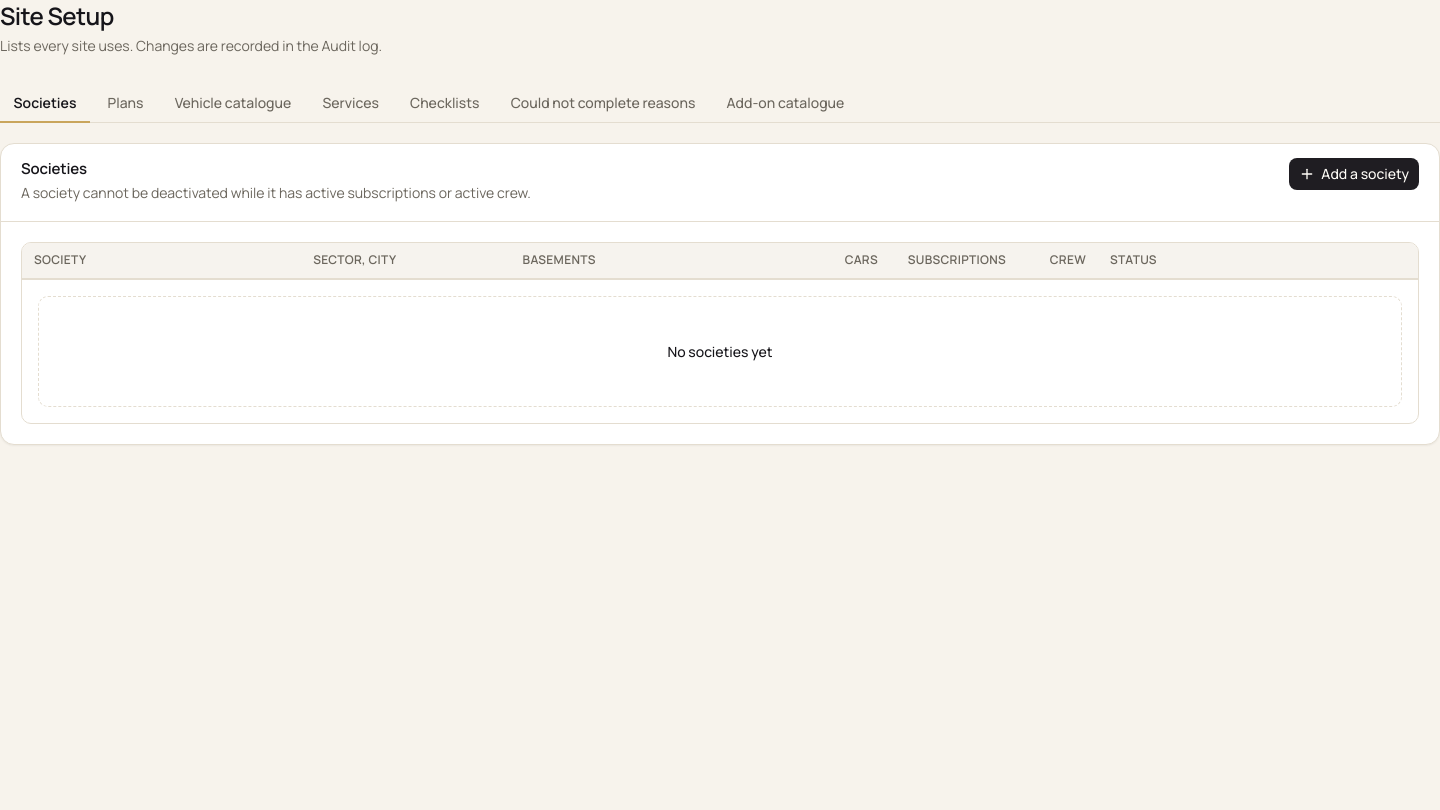
reference data › creates a society and shows a field error from the API
This screenshot has width=1440, height=810.
Click the button "Add a society" at (1354, 174), box [1289, 158, 1419, 190]
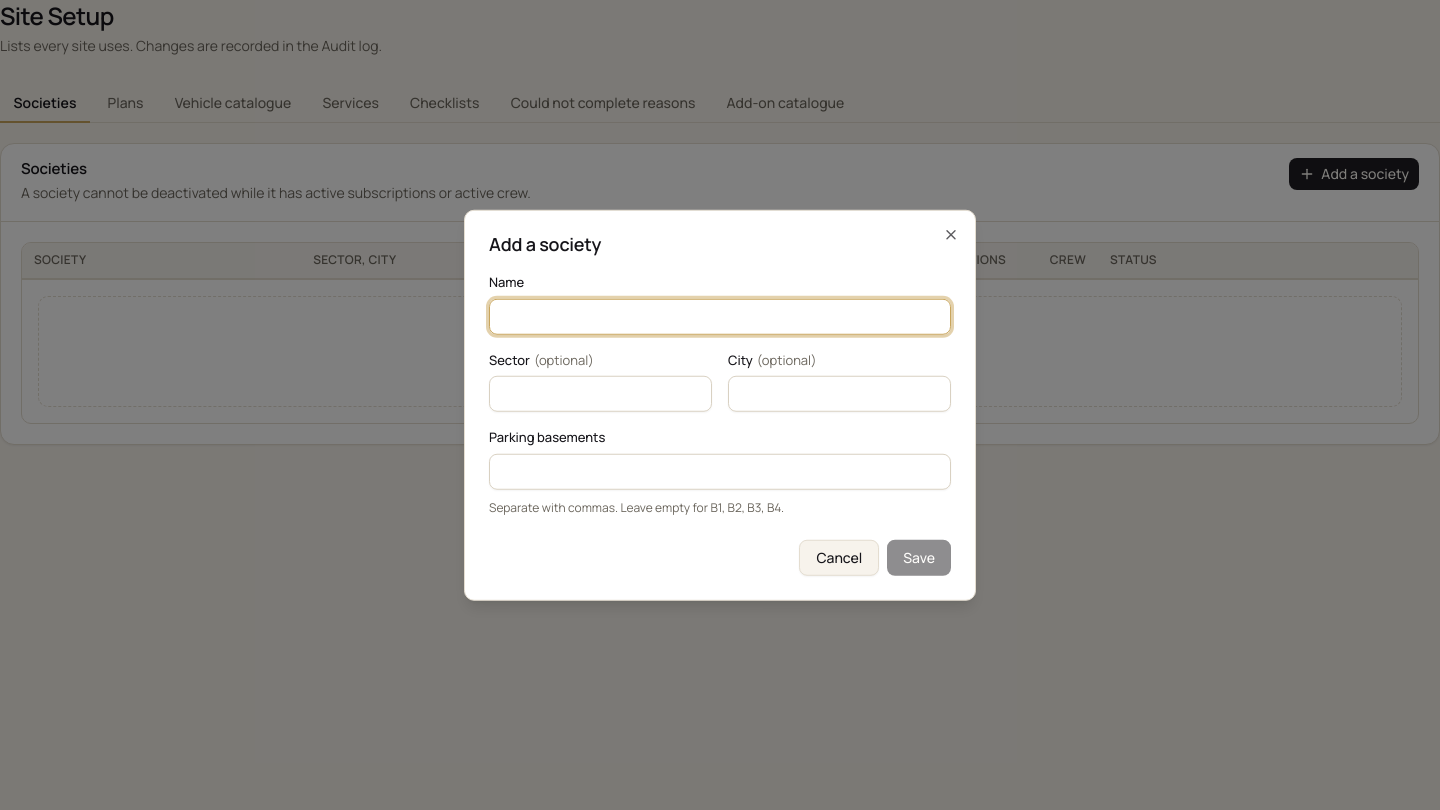
Type "Lake View" into the field labelled "Name" at (720, 316), box [489, 298, 951, 334]
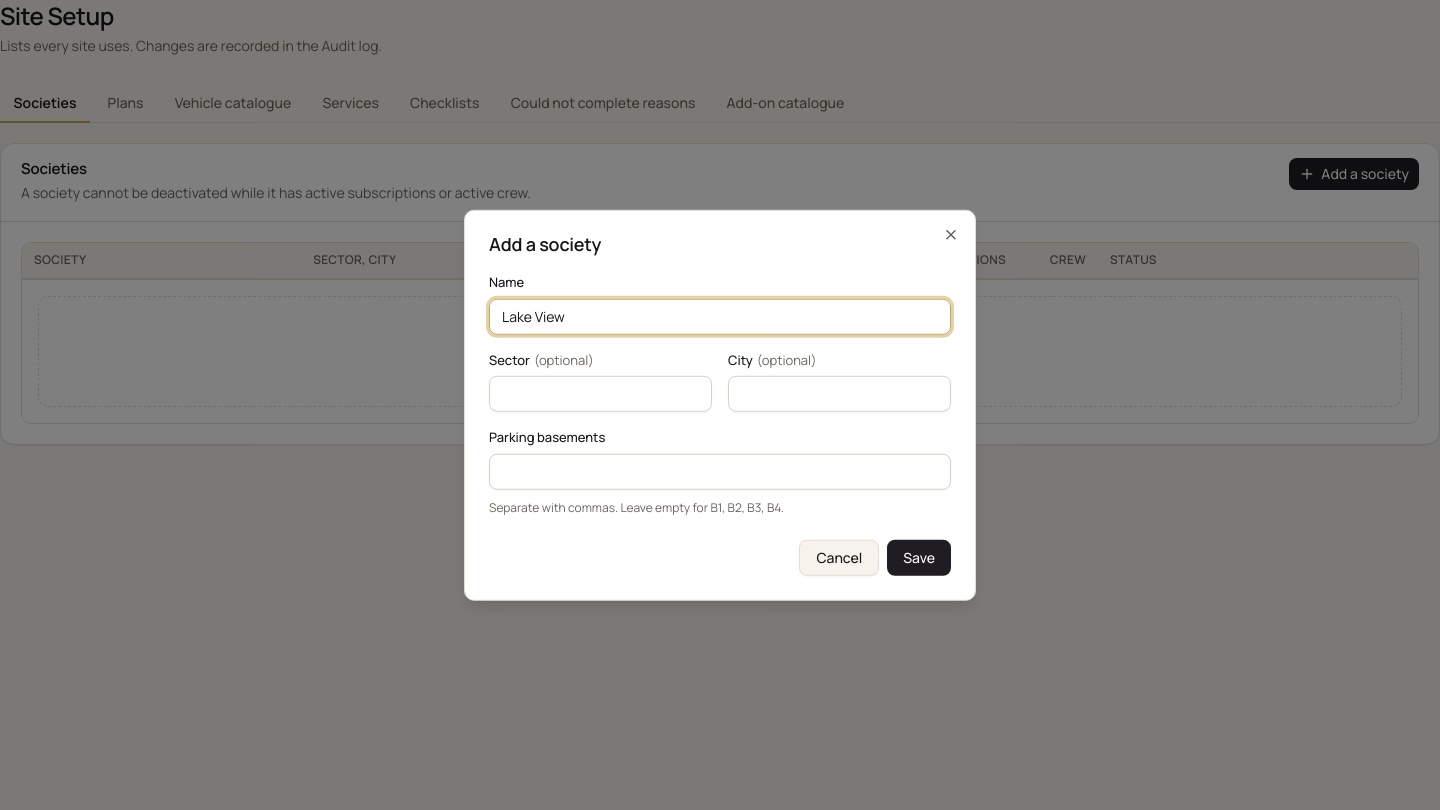
Type "B1, B2" into the field labelled "Parking basements" at (720, 471), box [489, 453, 951, 489]
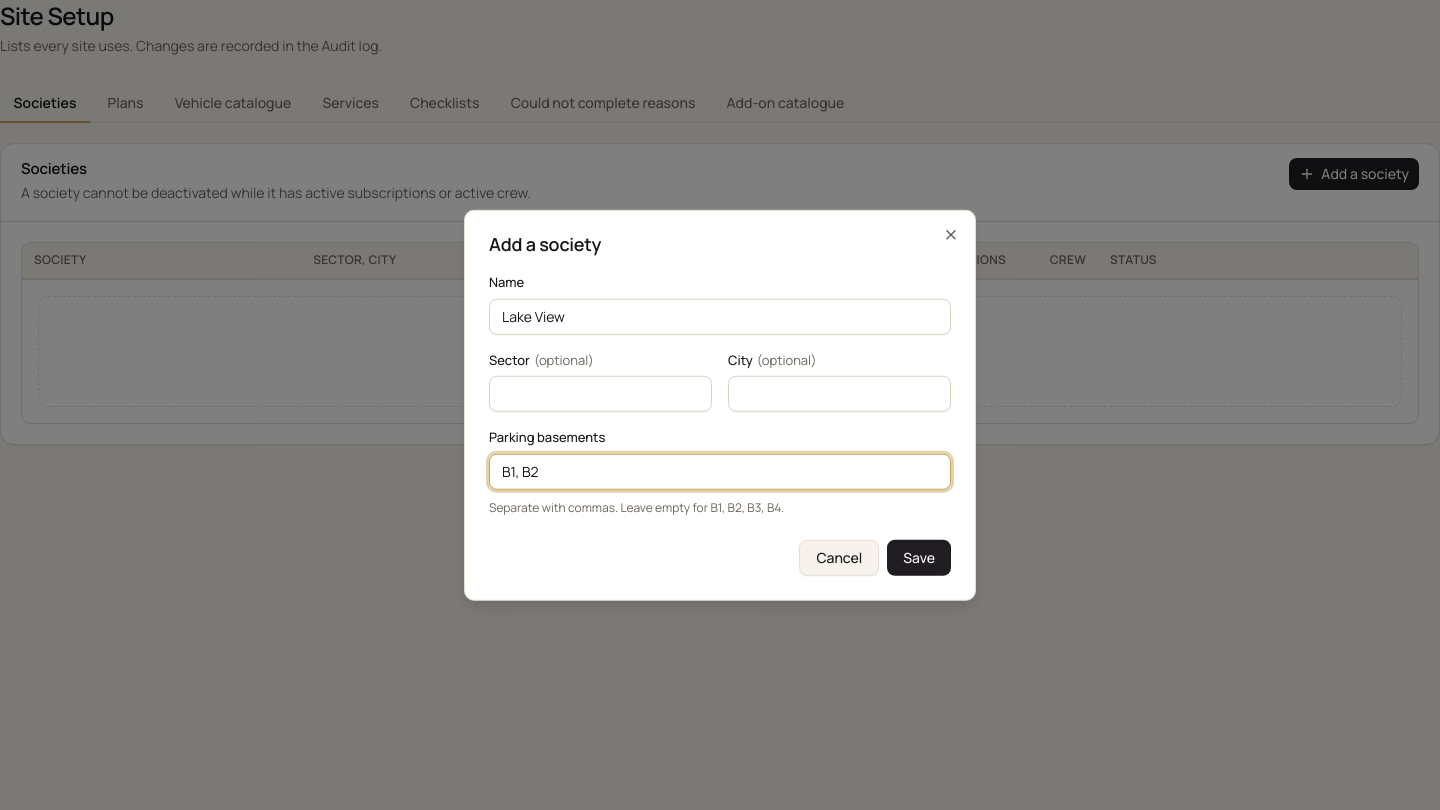
Click the button "Save" at (919, 557), box [887, 539, 951, 575]
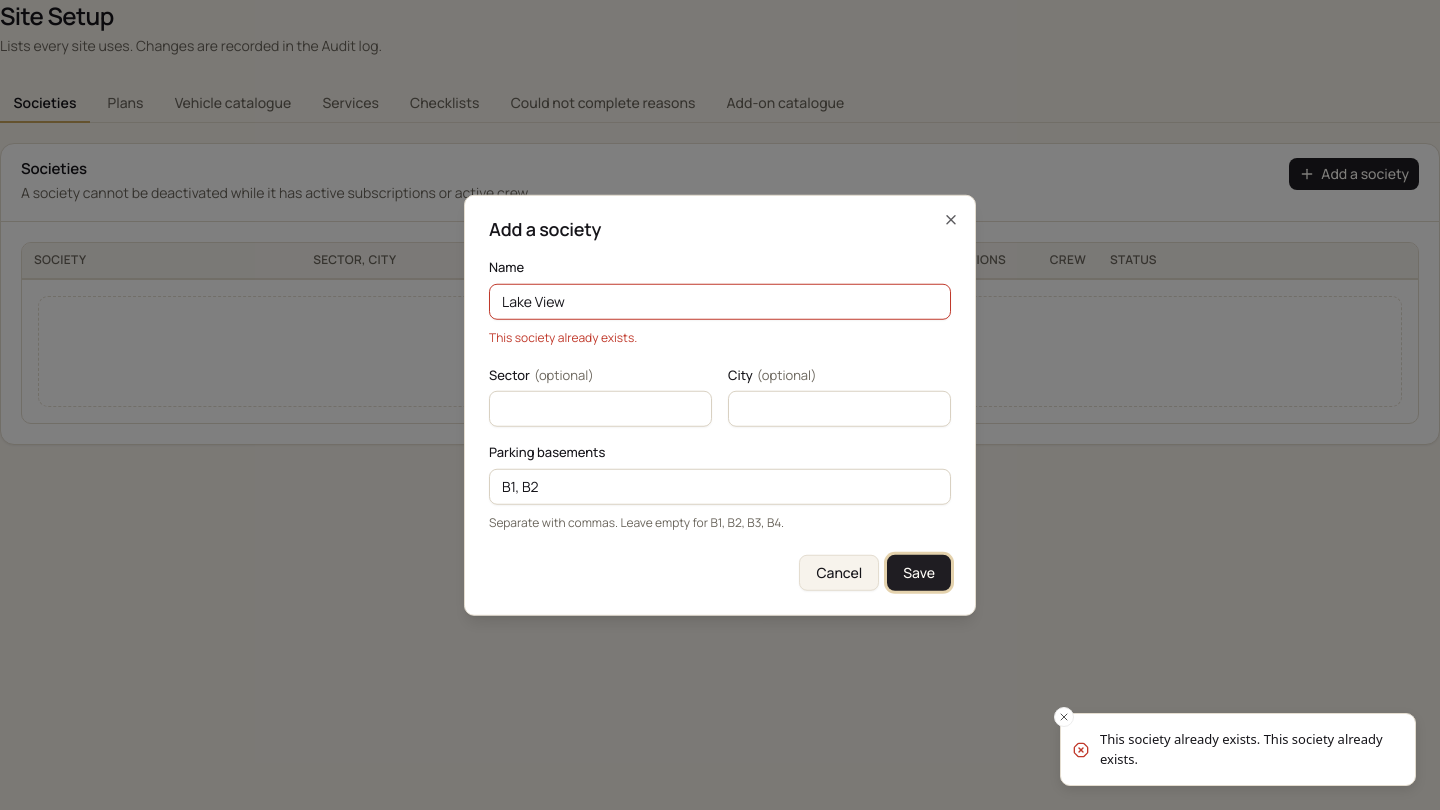
Now the text "This society already exists." is shown, box [489, 328, 637, 345]
